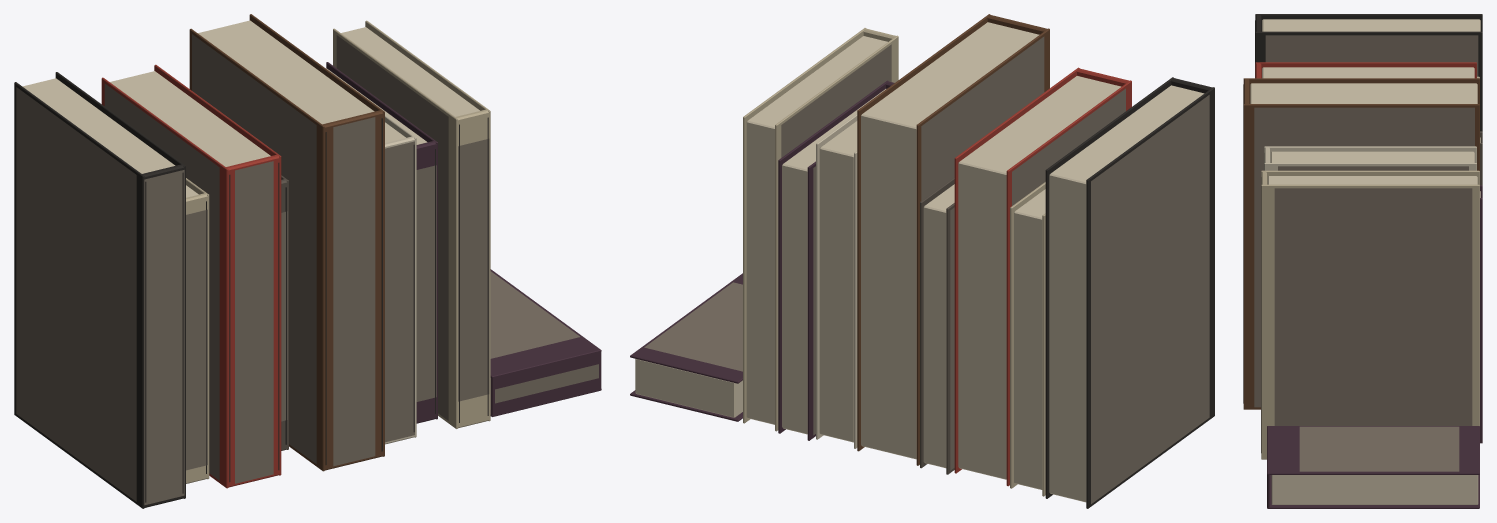
Rendered from bedroom-book-row-98aba5943ab2.glb.
3 views of the same model, side by side, from view 1: azimuth 30°, elevation 25°; view 2: azimuth 150°, elevation 25°; view 3: azimuth 270°, elevation 25° (orthographic). The views are drawn at different scales.
Visible parts, largest first — view 1: book-print, paper, speaker-cloth, wood-walnut-dark, accent-warm, enamel-beige, cloth-plum, cloth-cream, fabric; view 2: paper, book-print, speaker-cloth, enamel-beige, cloth-plum, wood-walnut-dark, accent-warm, fabric, cloth-cream; view 3: book-print, paper, enamel-beige, wood-walnut-dark, cloth-plum, speaker-cloth, cloth-cream, accent-warm.
Part boxes in pixels (box(x1,y1,x2,y2)): book-print: box(16, 34, 598, 505); paper: box(22, 20, 490, 409); speaker-cloth: box(14, 72, 488, 508); wood-walnut-dark: box(189, 14, 384, 471); accent-warm: box(101, 64, 281, 488); enamel-beige: box(186, 20, 490, 483); cloth-plum: box(326, 62, 601, 423); cloth-cream: box(385, 115, 416, 444); fabric: box(281, 175, 288, 450); paper: box(635, 22, 1204, 502); book-print: box(644, 36, 1209, 503); speaker-cloth: box(1045, 77, 1214, 508); enamel-beige: box(743, 28, 1045, 496); cloth-plum: box(630, 80, 894, 440); wood-walnut-dark: box(857, 14, 1049, 465); accent-warm: box(954, 67, 1131, 486); fabric: box(920, 177, 954, 474); cloth-cream: box(816, 114, 857, 448); book-print: box(1254, 35, 1478, 471); paper: box(1250, 19, 1480, 504); enamel-beige: box(1261, 76, 1479, 459); wood-walnut-dark: box(1243, 78, 1479, 409); cloth-plum: box(1267, 185, 1482, 508); speaker-cloth: box(1243, 14, 1482, 452); cloth-cream: box(1264, 146, 1476, 170); accent-warm: box(1255, 62, 1476, 78).
Bounding box in the file's own units: 0.3221 × 0.2281 × 0.1622.
